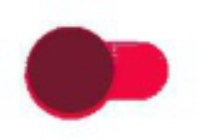Switch: (1, 1, 215, 139)
